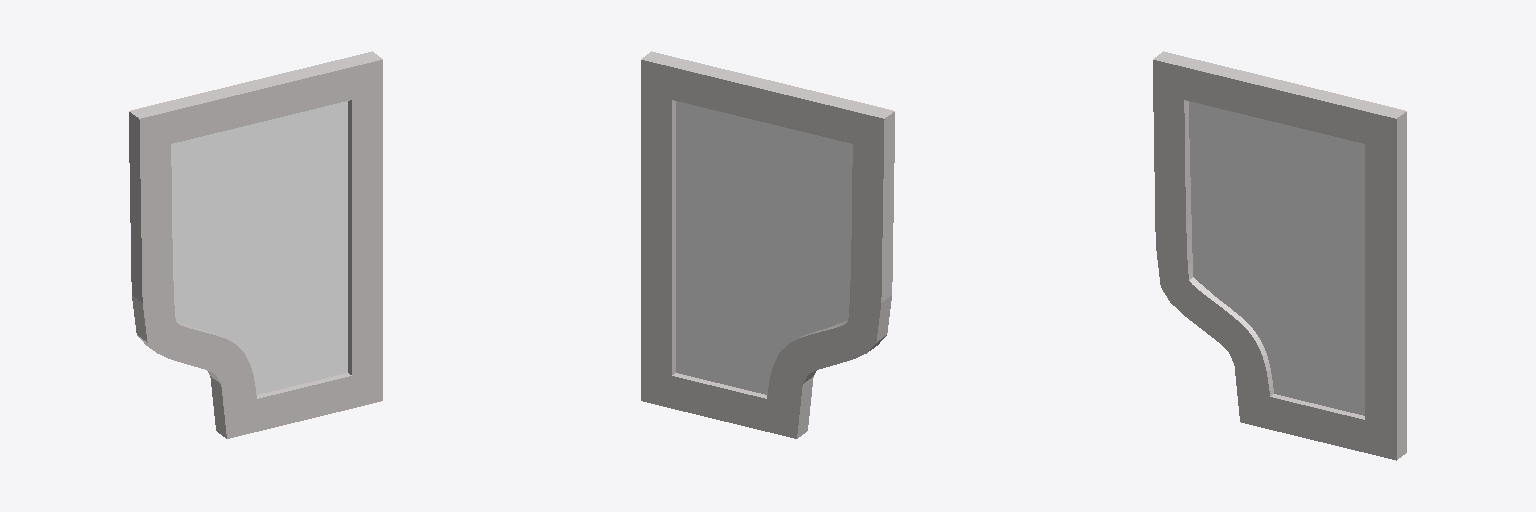
The model's file is door.obj.
The picture shows the model from 3 angles: view 1: azimuth 30°, elevation 25°; view 2: azimuth 150°, elevation 25°; view 3: azimuth 330°, elevation 25°; orthographic projection.
Parts seen in each view (by area): view 1: object_1, object_2; view 2: object_1, object_2; view 3: object_1, object_2.
Part boxes in pixels (x1,y1,x2,y2): object_1: (171, 101, 347, 394); object_2: (129, 51, 382, 438); object_1: (676, 101, 852, 394); object_2: (641, 51, 894, 438); object_1: (1189, 101, 1364, 415); object_2: (1153, 51, 1406, 460).
Size of the model in its own units: 19.43 by 26 by 1.5.